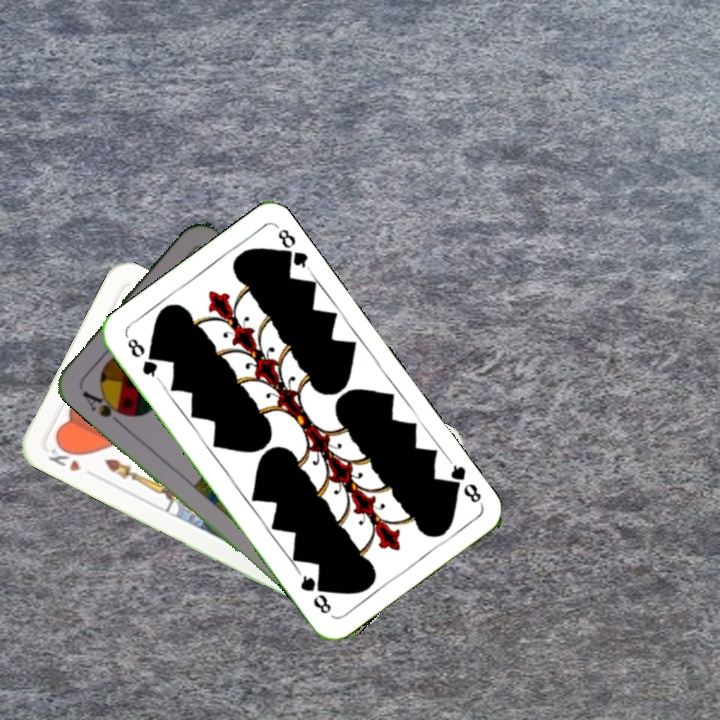G8: (442, 456, 485, 507), (123, 334, 163, 383)
HK: (44, 437, 84, 475)
SA: (78, 385, 129, 427)
